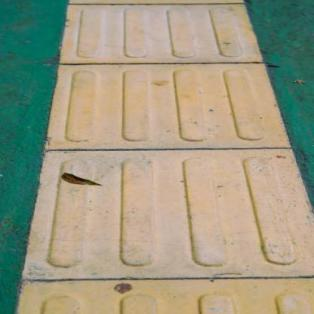Podoctatil: (18, 0, 311, 312)
